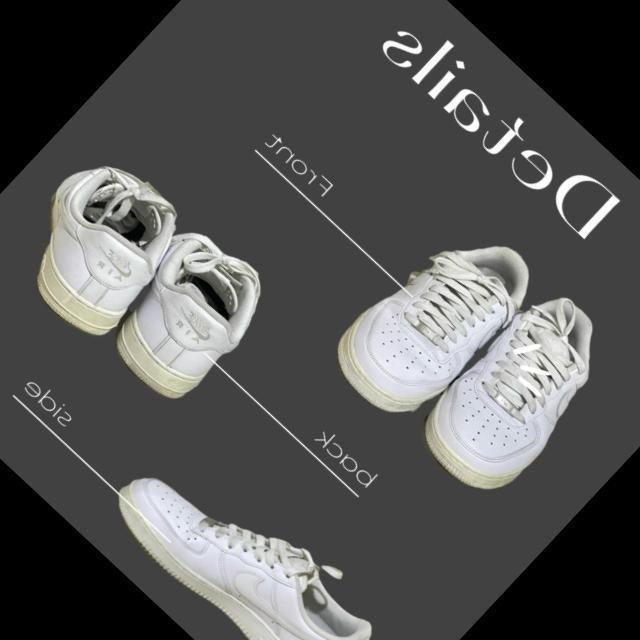nike original air force: (101, 431, 389, 640), (318, 207, 550, 444), (399, 276, 631, 512), (0, 133, 204, 348), (85, 212, 281, 409)
